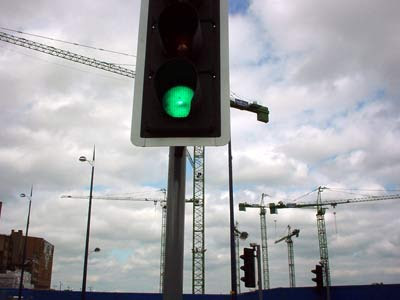trafficlight_green: (153, 2, 205, 121)
